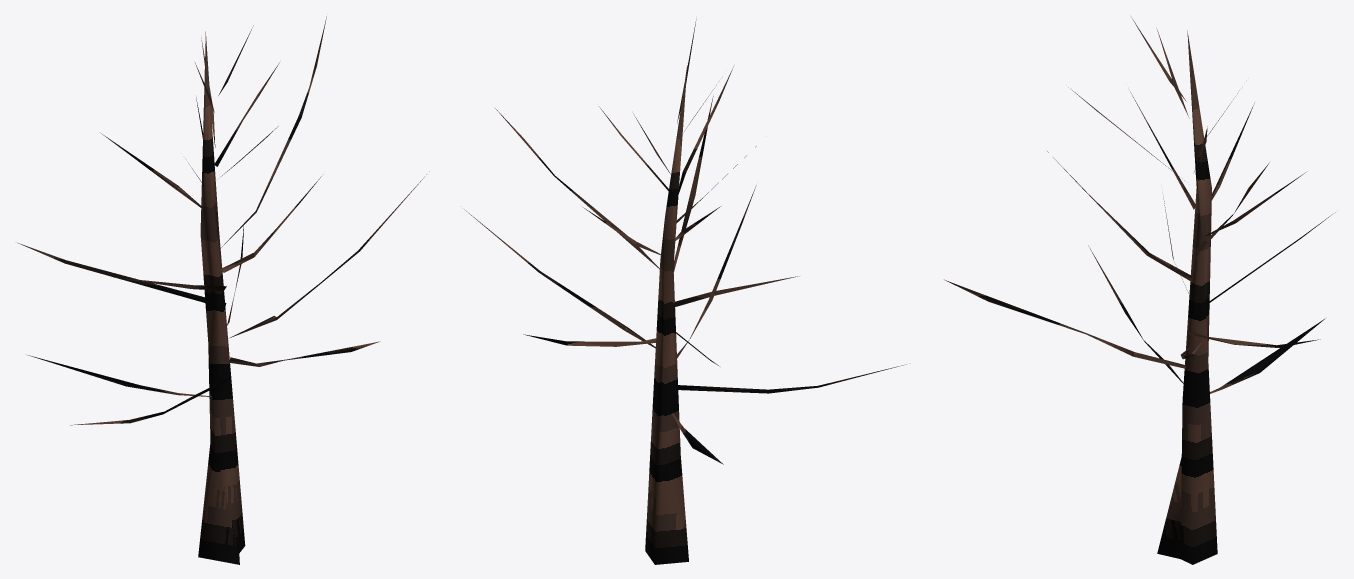
File: env_tree_poor.glb
The picture shows the model from 3 angles, left to right: view 1: azimuth 30°, elevation 25°; view 2: azimuth 150°, elevation 25°; view 3: azimuth 270°, elevation 25°; orthographic projection. The views are drawn at different scales.
Visible parts, largest first — view 1: env_tree_poor; view 2: env_tree_poor; view 3: env_tree_poor.
Part boxes in pixels (bbox=[...]): env_tree_poor: bbox=[17, 16, 429, 564]; env_tree_poor: bbox=[464, 18, 906, 564]; env_tree_poor: bbox=[944, 17, 1335, 564].
Bounding box in the file's own units: 0.0146 × 0.0183 × 0.0122.
1 material, 1 textured.
